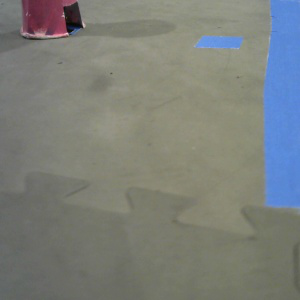middle: (19, 1, 85, 39)
